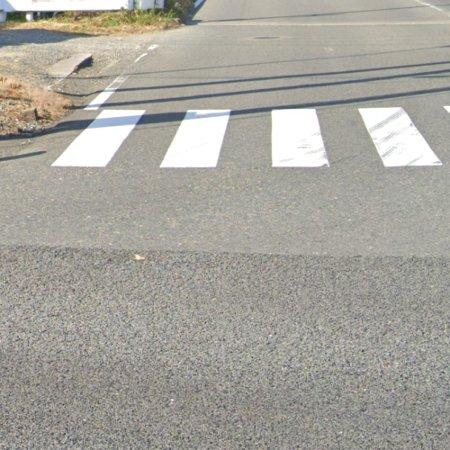crosswalks: (49, 108, 441, 167)
